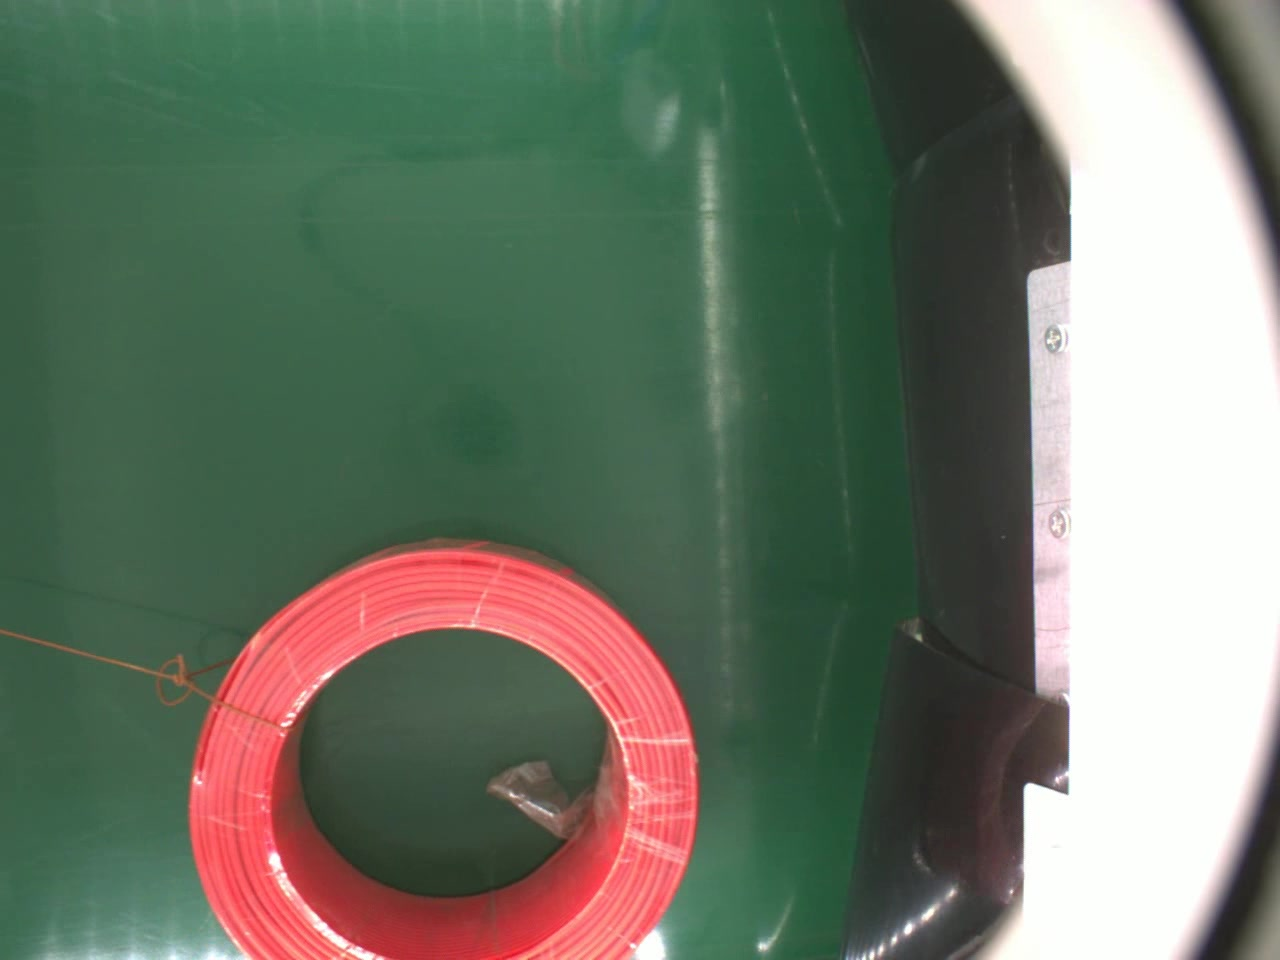red: (181, 534, 707, 960)
